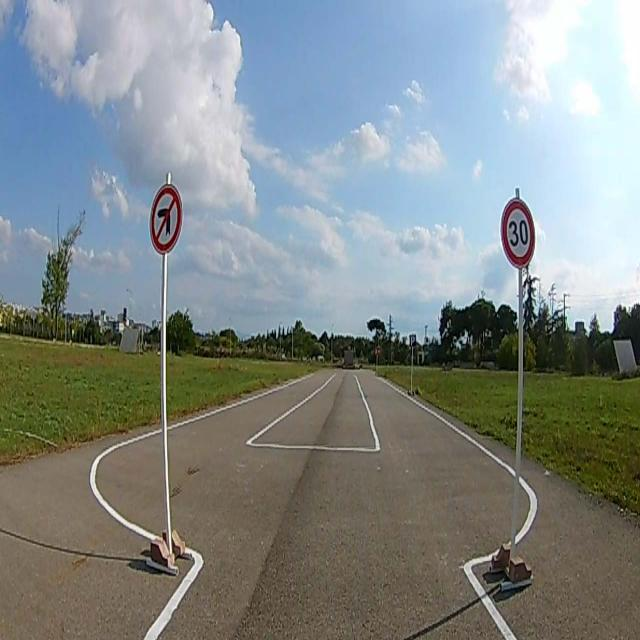30: (501, 199, 535, 267)
soladonulmez: (149, 187, 181, 249)
